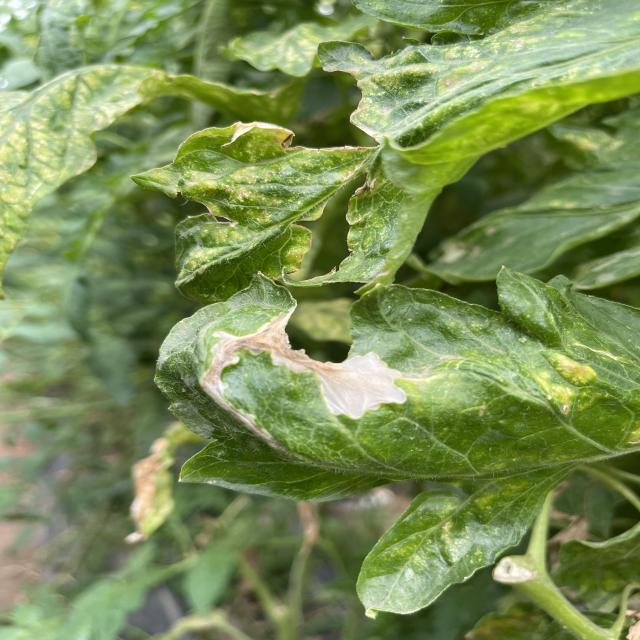Tuta absoluta: (205, 296, 417, 426)
